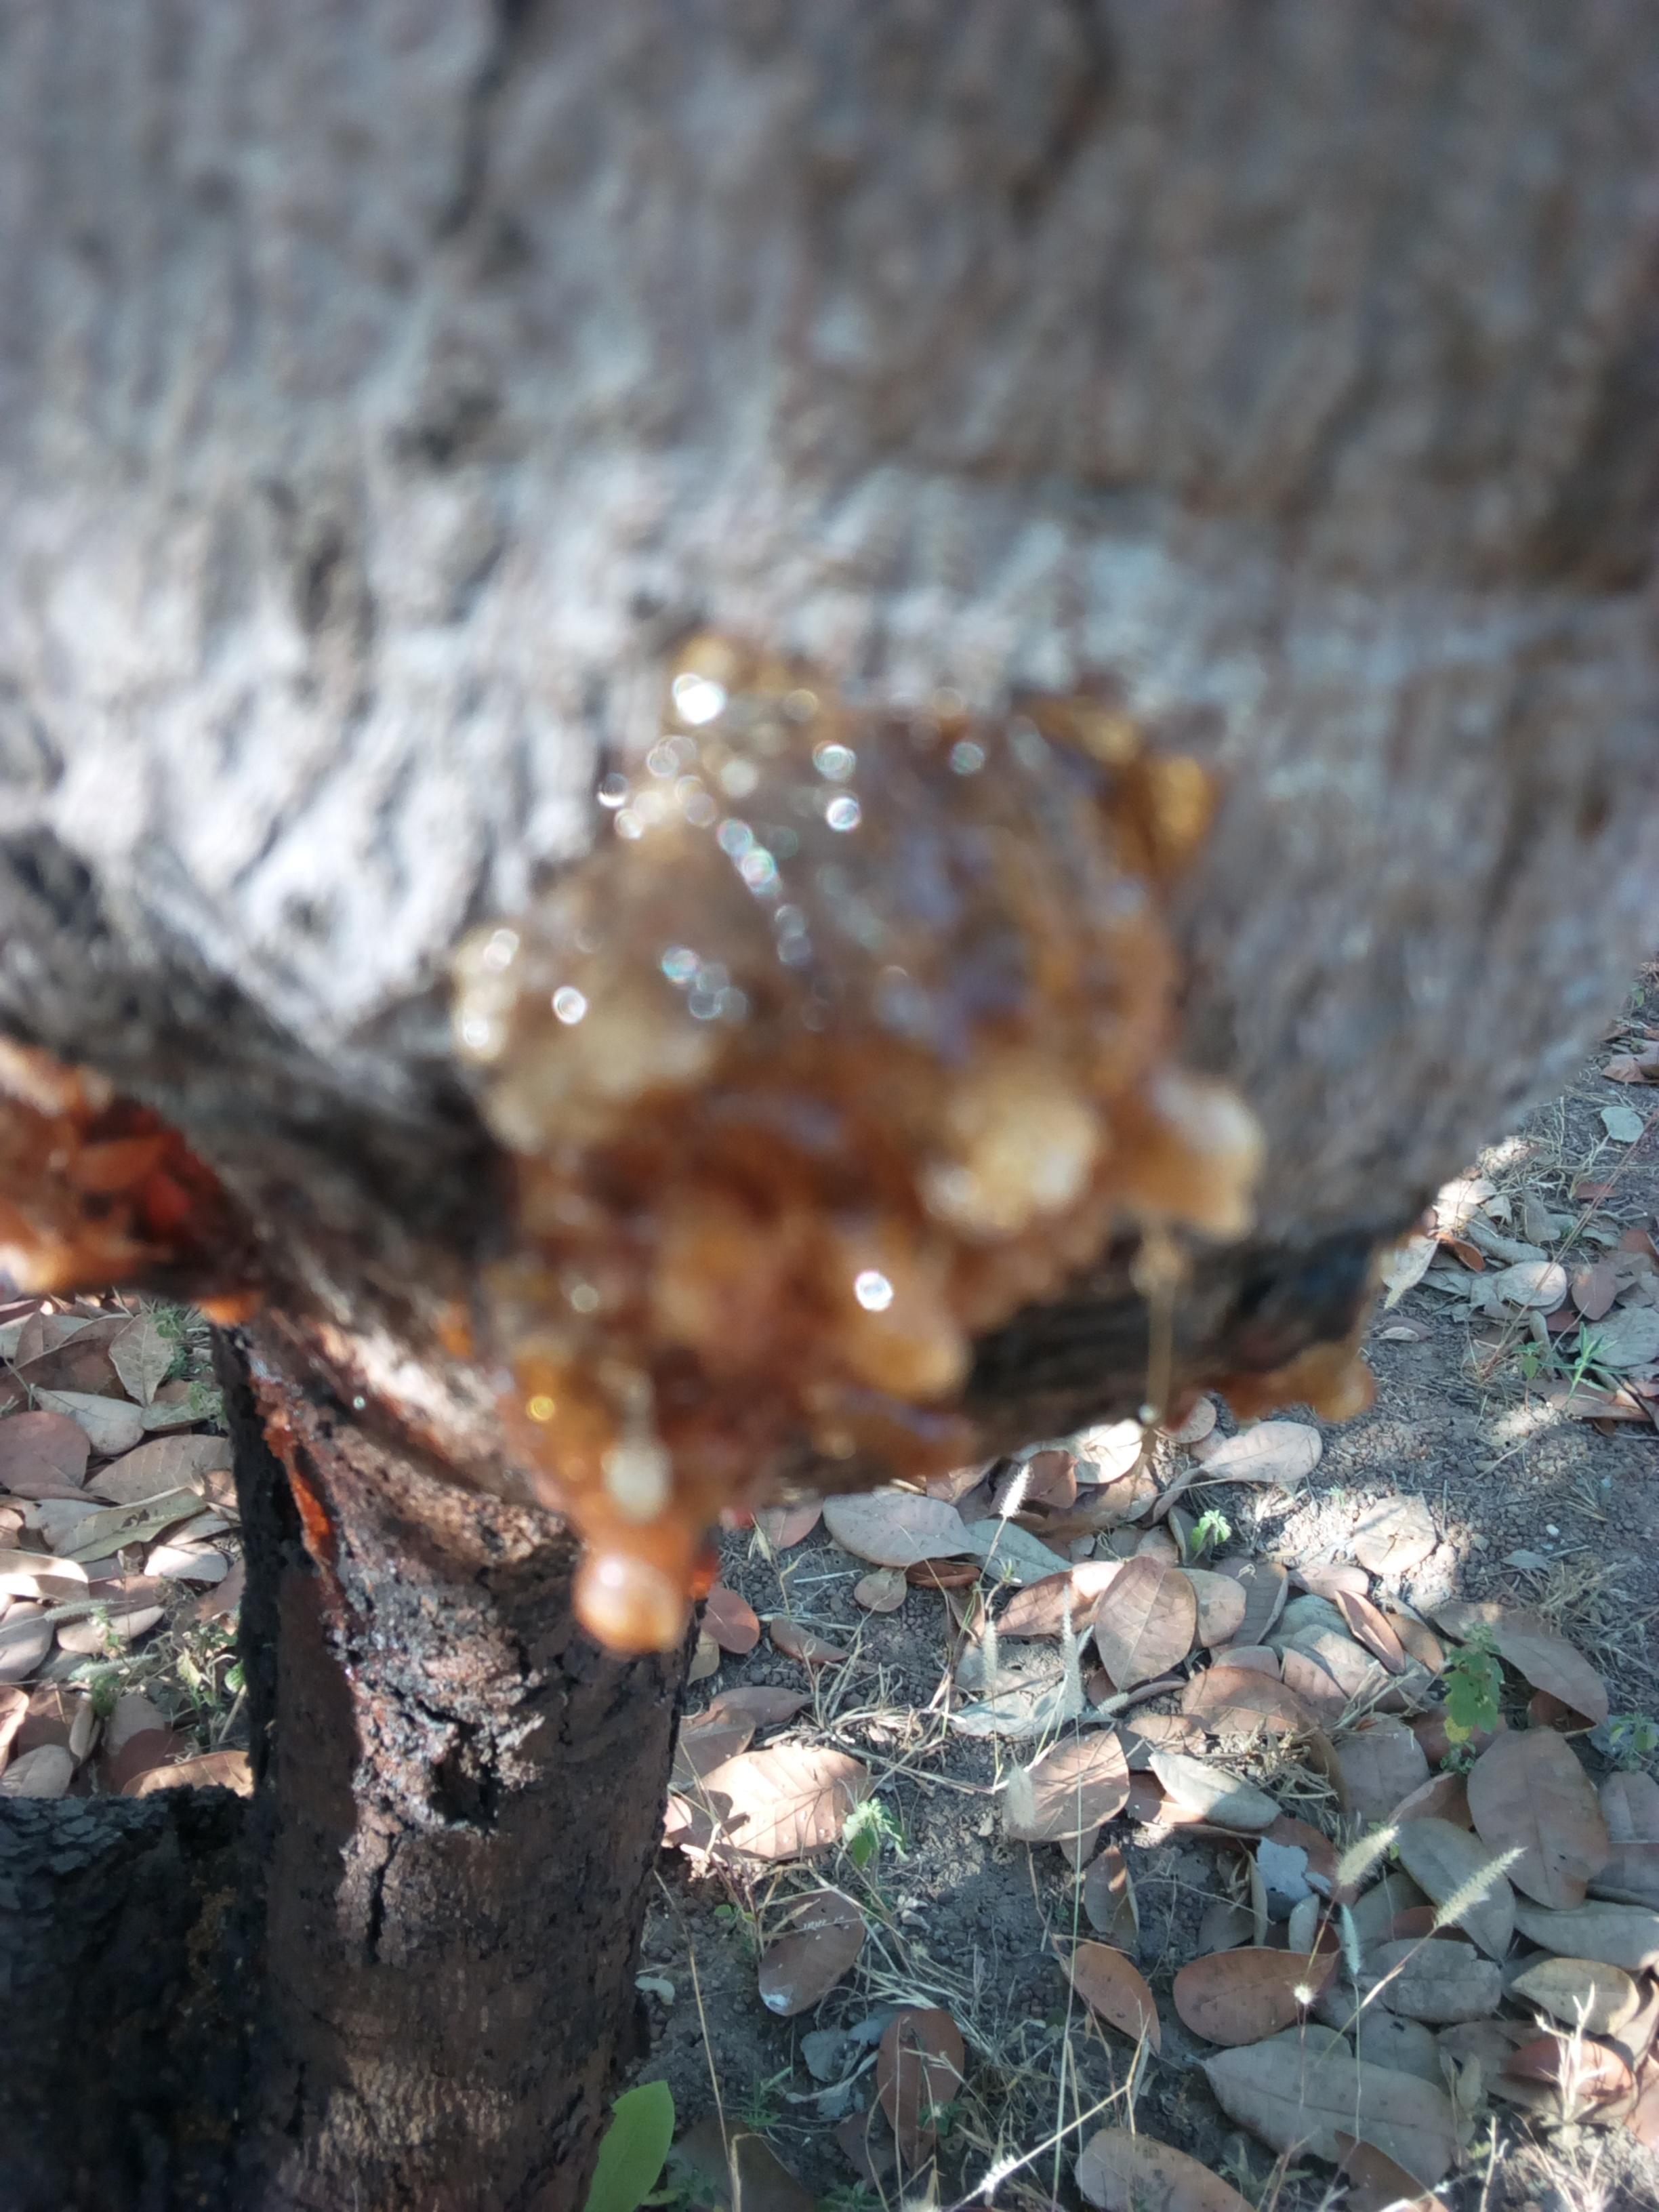Gommose: (453, 665, 1206, 1611)
